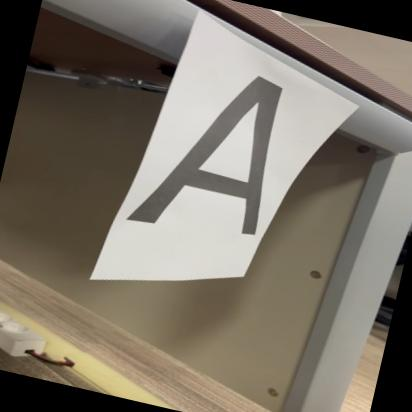seat: (123, 48, 322, 246)
